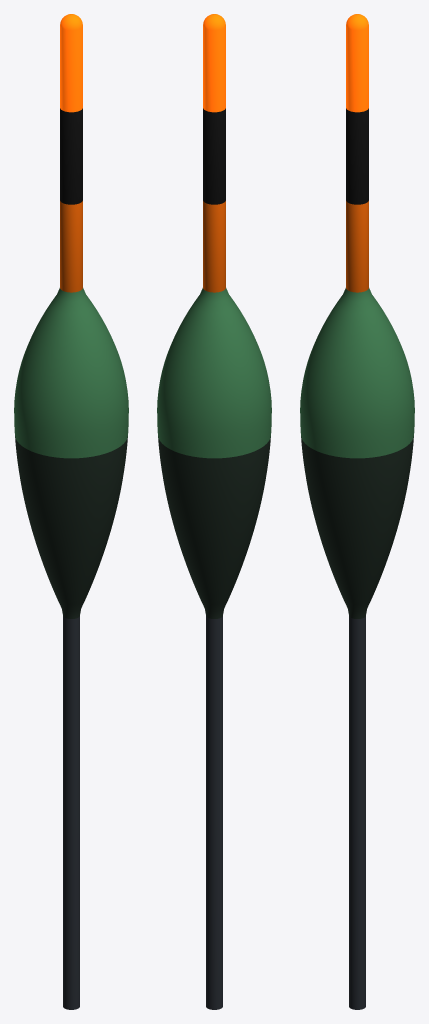
The model's file is laguna.glb.
3 views of the same model, side by side, from view 1: azimuth 30°, elevation 25°; view 2: azimuth 210°, elevation 25°; view 3: azimuth 330°, elevation 25° (orthographic).
Parts seen in each view (by area): view 1: laguna; view 2: laguna; view 3: laguna.
Boxes of the visible parts, x1,y1,x2,y2 form: laguna: (14, 14, 128, 1009); laguna: (157, 14, 271, 1009); laguna: (300, 14, 414, 1009).
Size of the model in its own units: 0.015 by 0.143 by 0.015.
